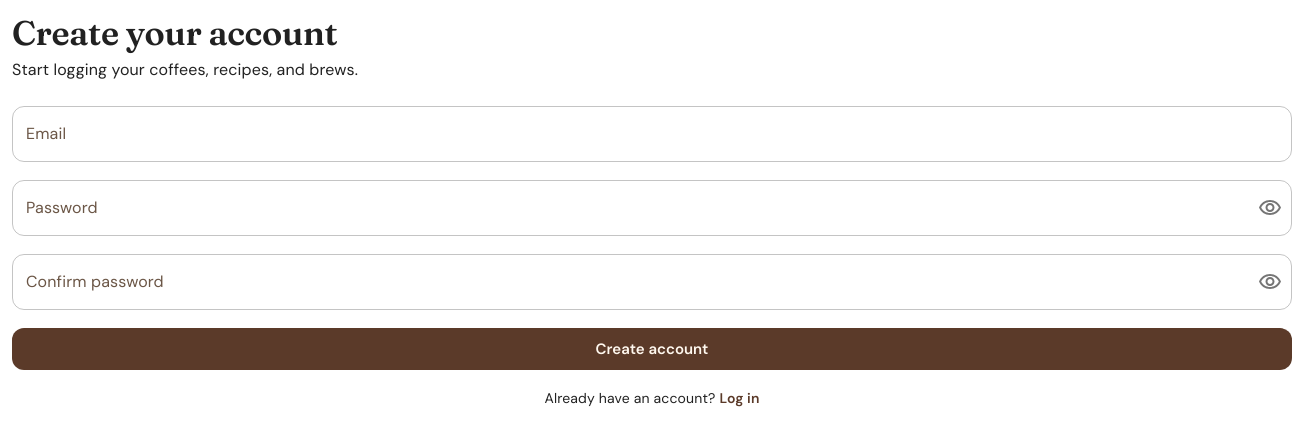
RegisterForm › registers with email and password only, then asks the user to check their email
Type "brewer@example.com" into the field labelled "Email" at (652, 134), box [12, 106, 1292, 162]
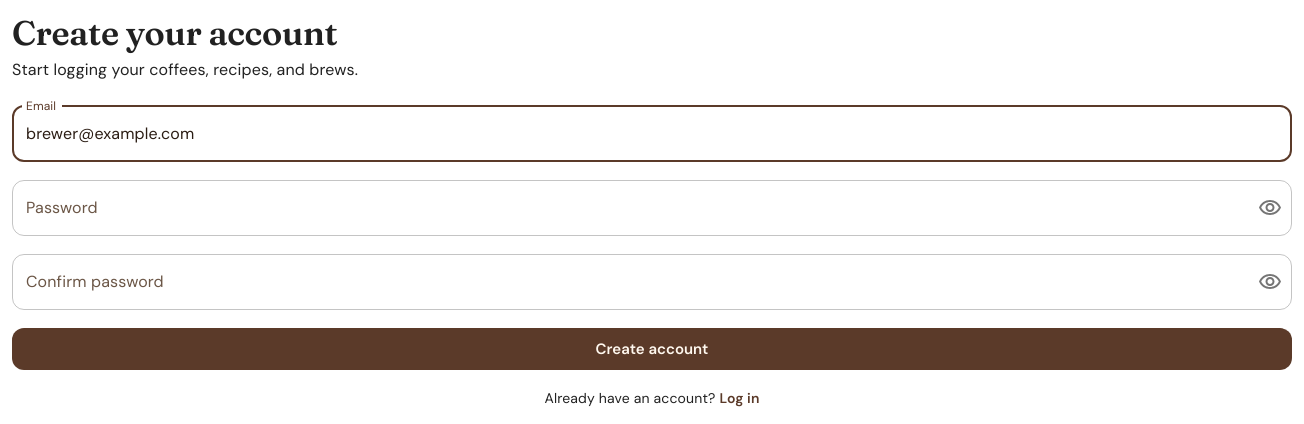
Type "brew-test-pass-001" into the password field labelled "Password" at (627, 208), box [12, 180, 1242, 236]
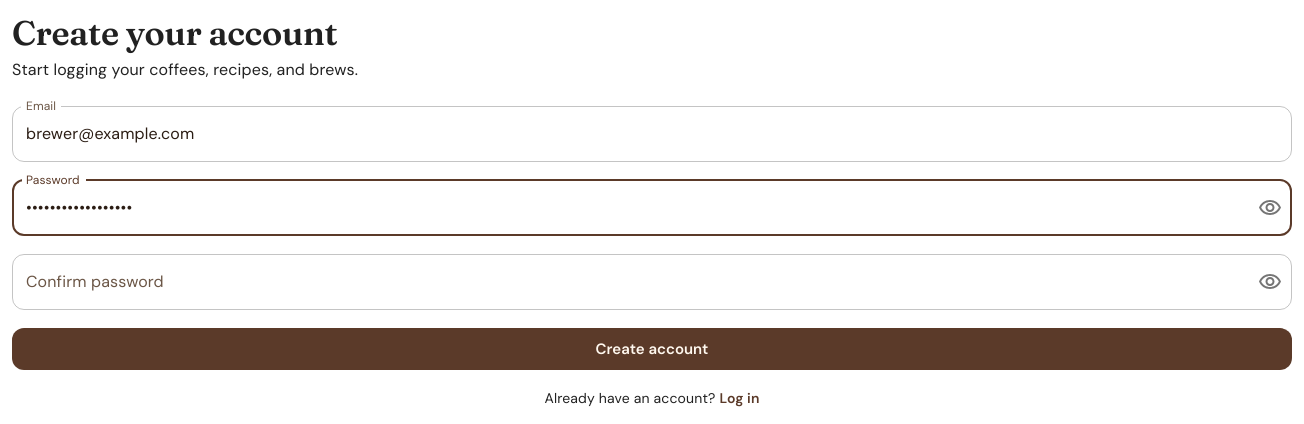
Type "brew-test-pass-001" into the password field labelled "Confirm password" at (627, 282), box [12, 254, 1242, 310]
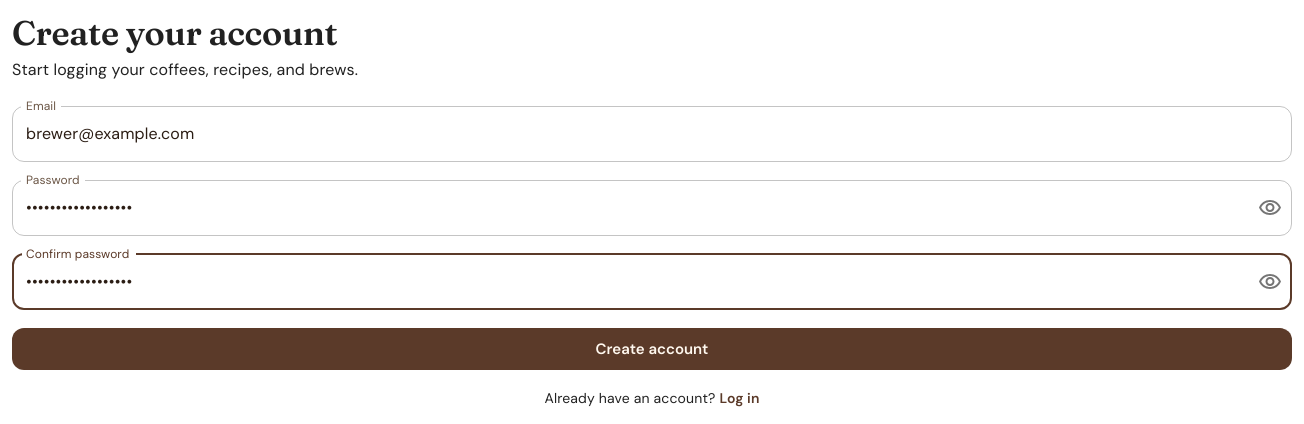
Click the button "Create account" at (652, 349), box [12, 328, 1292, 370]
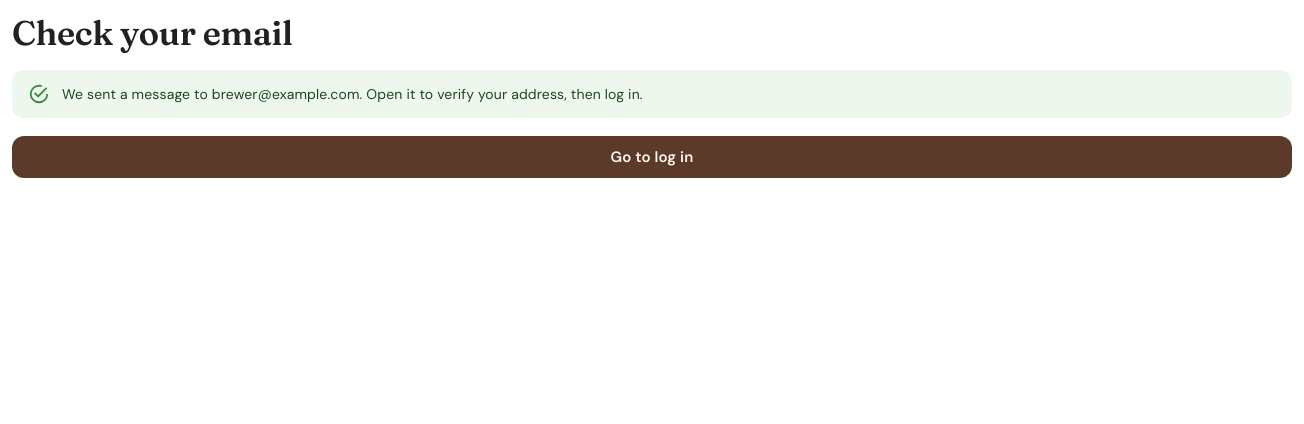
Check: the heading "Check your email" is shown, box [12, 12, 292, 54]
Check: the text "We sent a message to brewer@example.com" is shown, box [62, 85, 643, 103]
Check: the button "Create account" is gone
